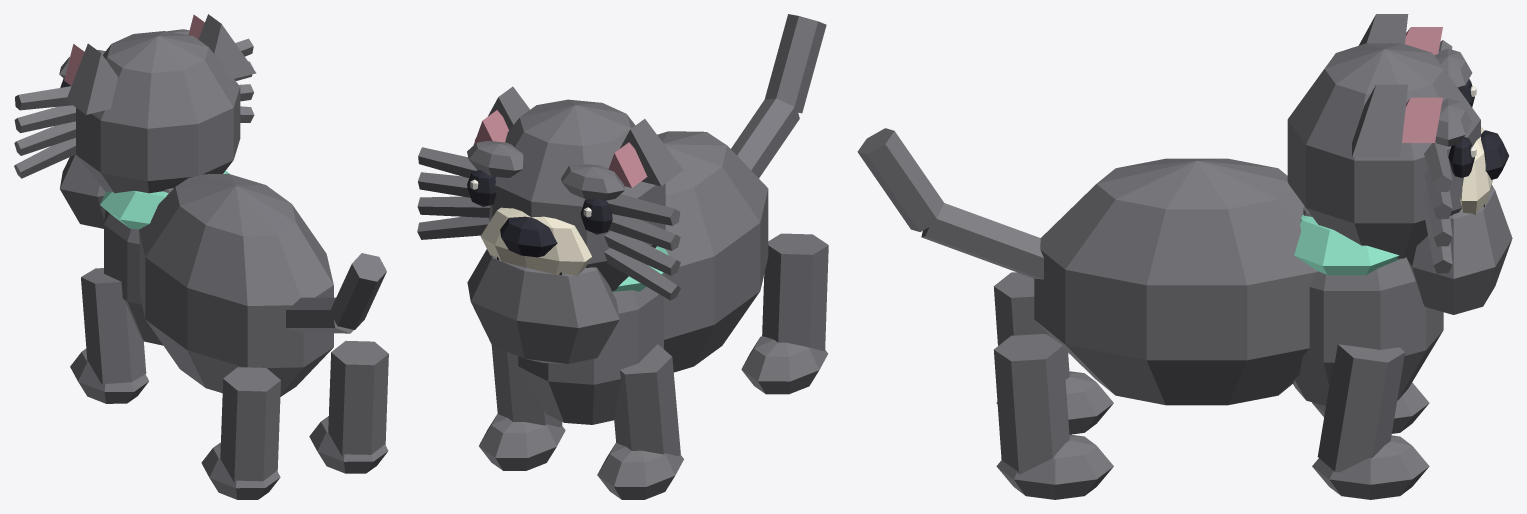
File: affenpinscher.glb
The picture shows the model from 3 angles, left to right: view 1: azimuth 30°, elevation 25°; view 2: azimuth 150°, elevation 25°; view 3: azimuth 270°, elevation 25°; orthographic projection. The views are drawn at different scales.
Parts seen in each view (by area): view 1: BodyMesh, HeadMesh; view 2: BodyMesh, HeadMesh; view 3: BodyMesh, HeadMesh.
Boxes of the visible parts, x1,y1,x2,y2 form: BodyMesh: (70,170,388,499); HeadMesh: (14,14,256,228); BodyMesh: (479,14,828,499); HeadMesh: (417,86,683,363); BodyMesh: (857,128,1443,499); HeadMesh: (1287,14,1512,314).
Bounding box in the file's own units: 0.6107 × 0.855 × 1.22.
